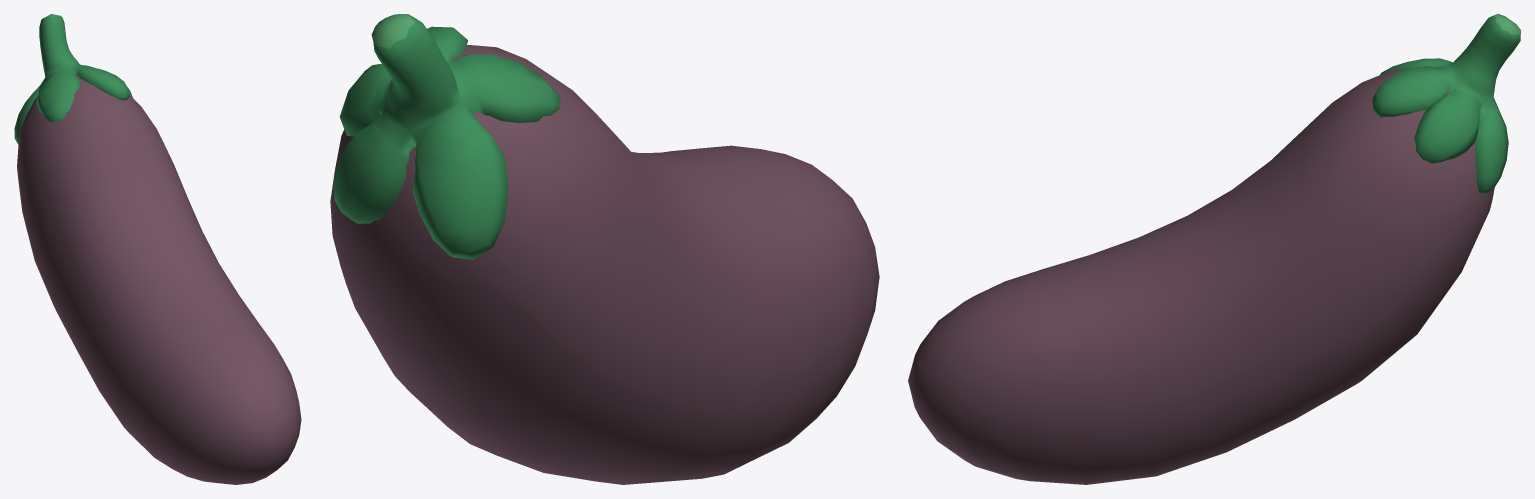
File: Aubergine_03.dae
3 views of the same model, side by side, from view 1: azimuth 30°, elevation 25°; view 2: azimuth 150°, elevation 25°; view 3: azimuth 270°, elevation 25° (orthographic). The views are drawn at different scales.
Visible parts, largest first — view 1: Aubergine_03_LOD0; view 2: Aubergine_03_LOD0; view 3: Aubergine_03_LOD0.
Boxes of the visible parts, x1=… form: Aubergine_03_LOD0: x1=14, y1=14, x2=301, y2=484; Aubergine_03_LOD0: x1=330, y1=14, x2=879, y2=484; Aubergine_03_LOD0: x1=908, y1=14, x2=1520, y2=484.
Size of what is drawn, in the model's own units: 2.38 by 6.67 by 5.46.
